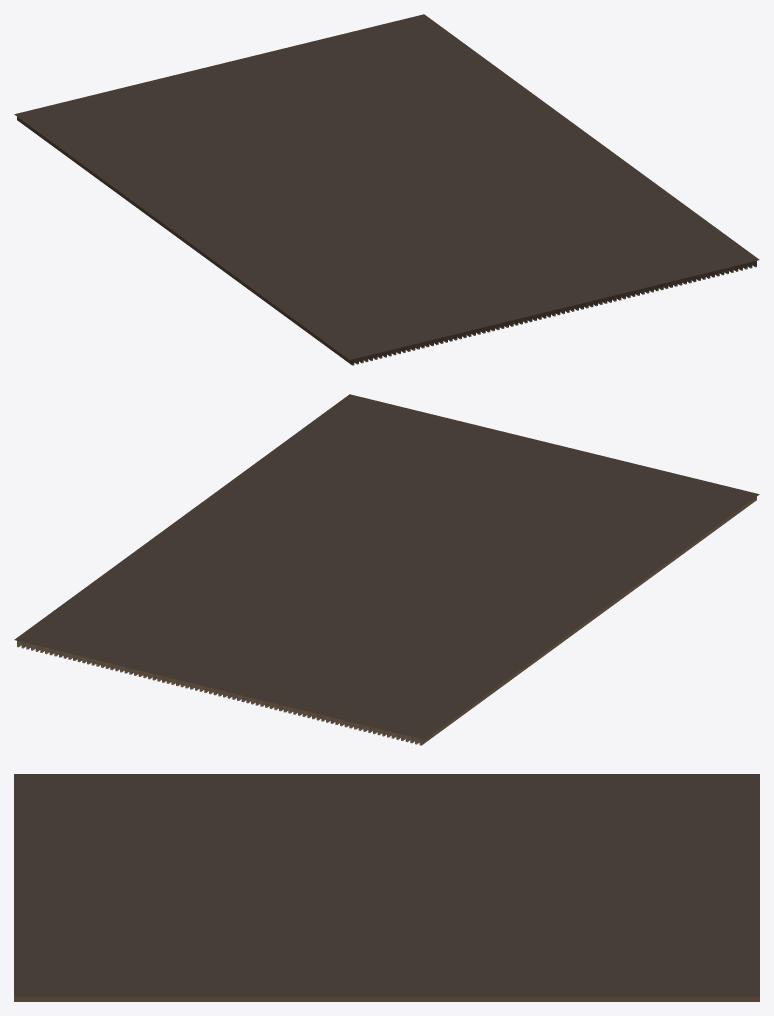
File: waiting-ceiling.glb
3 views of the same model, one above another, from view 1: azimuth 30°, elevation 25°; view 2: azimuth 150°, elevation 25°; view 3: azimuth 270°, elevation 25° (orthographic). The views are drawn at different scales.
Visible parts, largest first — view 1: 01 · shadow backing above oak blades; view 2: 01 · shadow backing above oak blades; view 3: 01 · shadow backing above oak blades.
Part boxes in pixels (x1,y1,x2,y2): 01 · shadow backing above oak blades: [14, 14, 759, 365]; 01 · shadow backing above oak blades: [14, 394, 759, 745]; 01 · shadow backing above oak blades: [14, 774, 759, 1001].
Bounding box in the file's own units: 12.7 × 0.7779 × 18.
